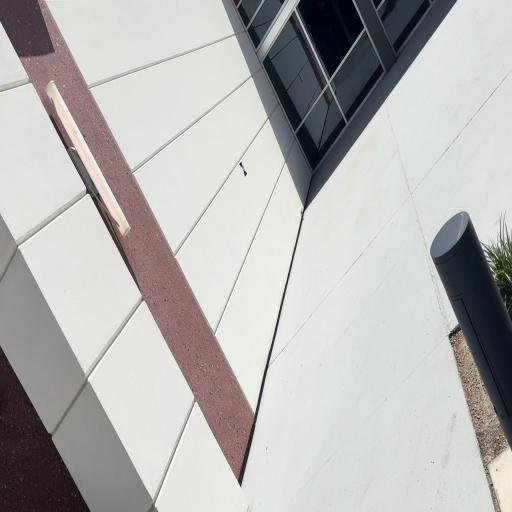target4: (239, 161, 248, 178)
